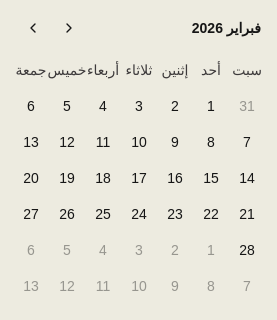
Test: Calendar primitive › renders outside days muted and lets clicks navigate the month
Click the button named "31 يناير 2026" at coordinates (247, 106), box [229, 88, 265, 124]
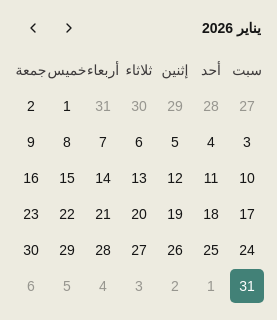
expect the text "يناير 2026" is shown: met, box [202, 18, 261, 38]
